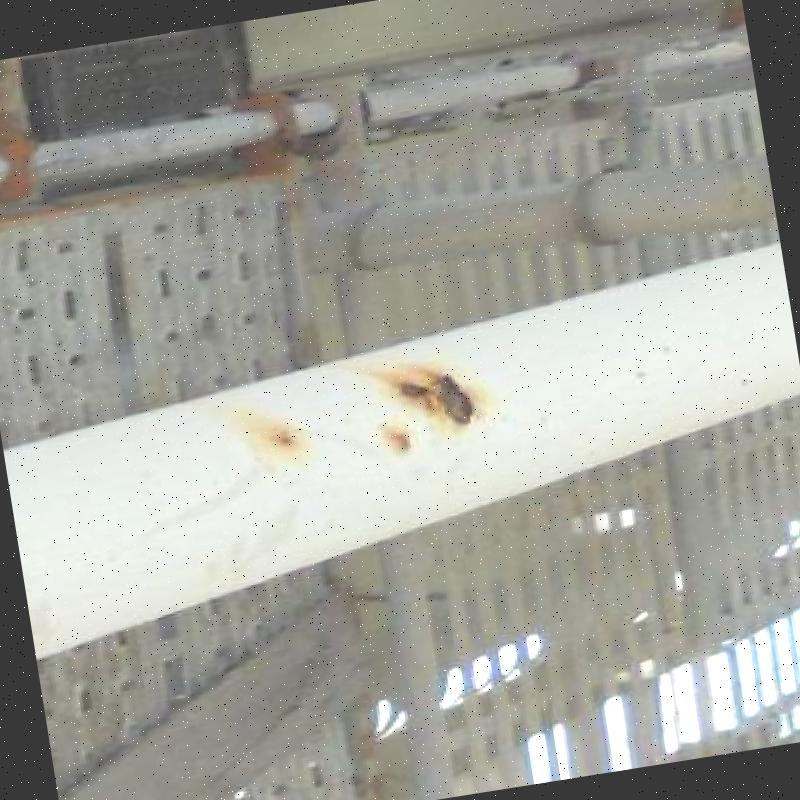corrosion: (431, 367, 478, 431), (403, 370, 434, 406), (388, 424, 415, 449), (268, 426, 296, 448)
